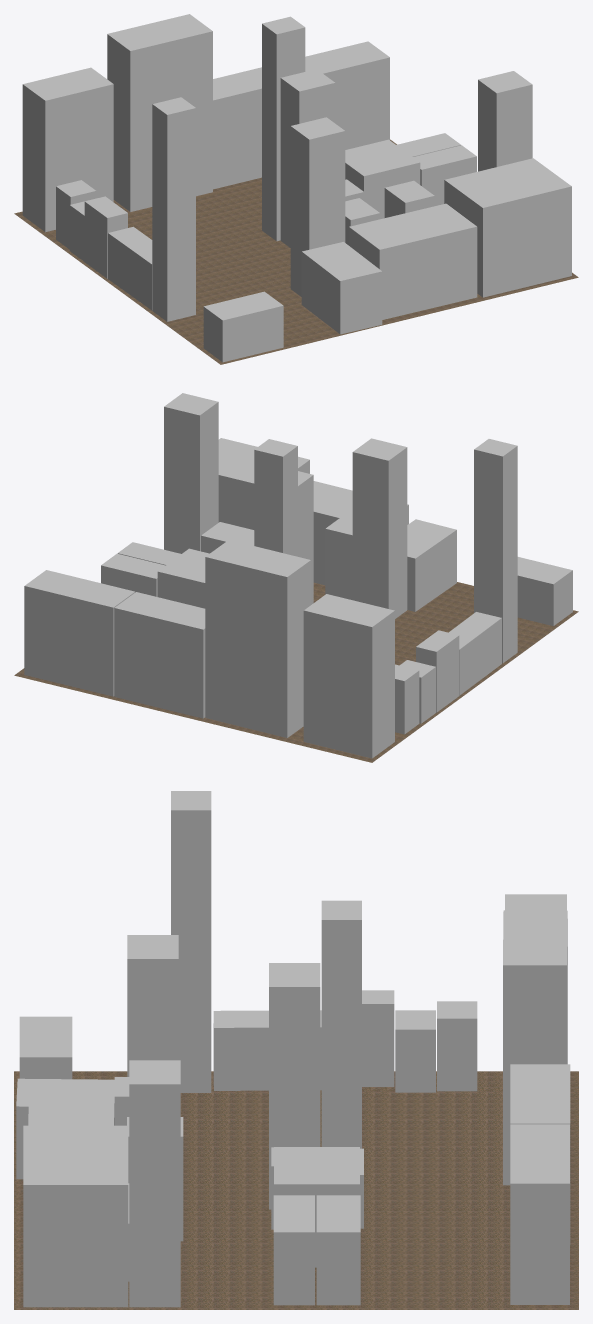
3 renders of one model, top to bottom at view 1: azimuth 30°, elevation 25°; view 2: azimuth 150°, elevation 25°; view 3: azimuth 270°, elevation 25°, orthographic. The views are drawn at different scales.
Visible parts, largest first — view 1: Ground, Building.023, Building.015, Building.021, Building.005, Building.024, Building.014, Building.025, Building.020, Building.017, Building.022, Building.004 (+11 smaller); view 2: Building.023, Building.021, Building.020, Building.022, Building.014, Building.024, Building.004, Ground, Building.017, Building.025, Building.015, Building.011 (+11 smaller); view 3: Ground, Building.015, Building.004, Building.024, Building.023, Building.020, Building.017, Building.009, Building.014, Building.019, Building.016, Building.008 (+10 smaller).
Boxes of the visible parts, left/top/right/bottom form: Ground: left=14, top=139, right=578, bottom=364; Building.023: left=107, top=14, right=212, bottom=211; Building.015: left=444, top=158, right=571, bottom=297; Building.021: left=22, top=67, right=113, bottom=232; Building.005: left=349, top=203, right=477, bottom=319; Building.024: left=152, top=97, right=195, bottom=321; Building.014: left=290, top=117, right=345, bottom=296; Building.025: left=301, top=242, right=382, bottom=334; Building.020: left=305, top=41, right=389, bottom=149; Building.017: left=262, top=16, right=305, bottom=241; Building.022: left=213, top=67, right=261, bottom=189; Building.004: left=478, top=71, right=532, bottom=171; Building.023: left=205, top=540, right=310, bottom=737; Building.021: left=303, top=594, right=394, bottom=758; Building.020: left=24, top=570, right=135, bottom=696; Building.022: left=114, top=592, right=205, bottom=718; Building.014: left=352, top=438, right=407, bottom=618; Building.024: left=474, top=439, right=517, bottom=663; Building.004: left=164, top=393, right=218, bottom=553; Ground: left=14, top=582, right=578, bottom=762; Building.017: left=254, top=439, right=297, bottom=556; Building.025: left=407, top=519, right=456, bottom=611; Building.015: left=218, top=438, right=309, bottom=529; Building.011: left=517, top=557, right=572, bottom=625; Ground: left=14, top=1071, right=578, bottom=1309; Building.015: left=23, top=1125, right=128, bottom=1307; Building.004: left=129, top=1060, right=180, bottom=1307; Building.024: left=171, top=791, right=211, bottom=1092; Building.023: left=503, top=910, right=567, bottom=1185; Building.020: left=510, top=1124, right=569, bottom=1304; Building.017: left=321, top=900, right=361, bottom=1148; Building.009: left=269, top=963, right=320, bottom=1209; Building.014: left=127, top=935, right=178, bottom=1076; Building.019: left=316, top=1195, right=360, bottom=1305; Building.016: left=213, top=1010, right=321, bottom=1090; Building.008: left=273, top=1195, right=314, bottom=1305.
Size of the model in its own units: 140 by 78.69 by 140.
